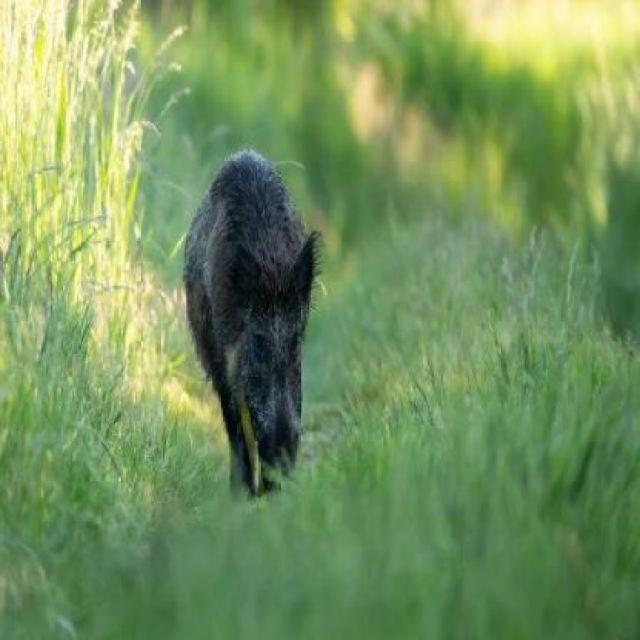wildboar: (180, 141, 323, 508)
